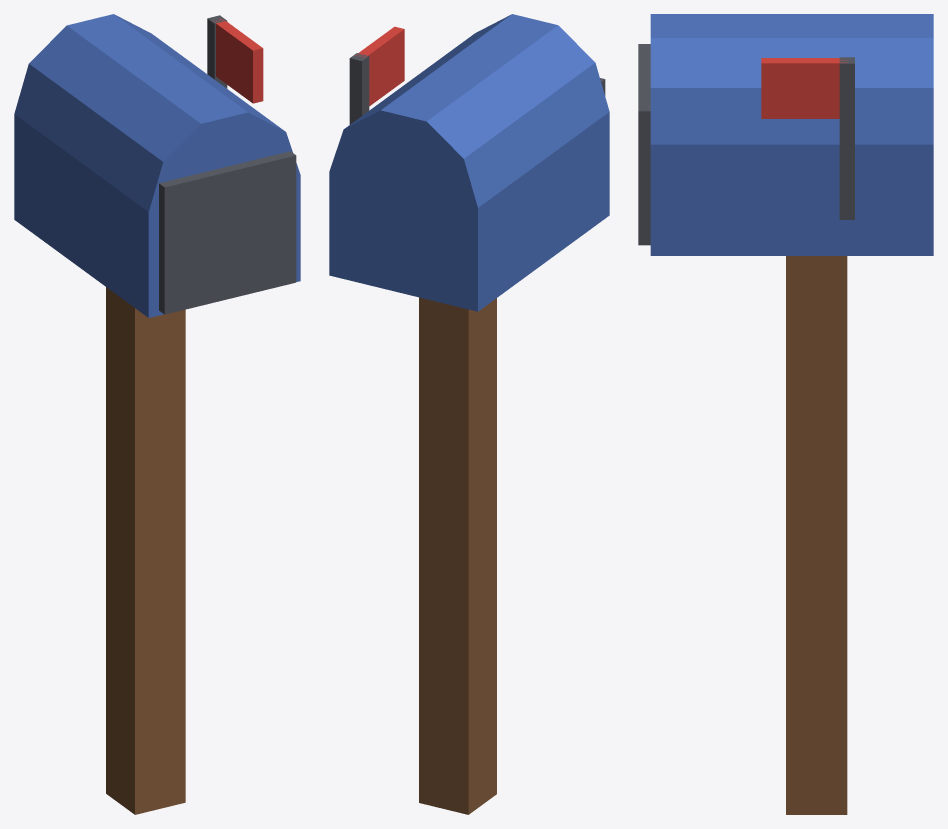
The model's file is mailbox.obj.
3 renders of one model, left to right at view 1: azimuth 30°, elevation 25°; view 2: azimuth 150°, elevation 25°; view 3: azimuth 270°, elevation 25°, orthographic. The views are drawn at different scales.
Visible parts, largest first — view 1: box, post, flag; view 2: box, post, flag; view 3: box, post, flag.
Boxes of the visible parts, x1,y1,x2,y2 form: box: (14,14,300,317); post: (106,287,185,814); flag: (207,15,263,103); box: (329,14,609,311); post: (419,297,496,814); flag: (349,26,404,124); box: (638,14,933,255); post: (786,256,847,814); flag: (761,57,854,219).
Bounding box in the file's own units: 0.3325 × 1.41 × 0.48.
